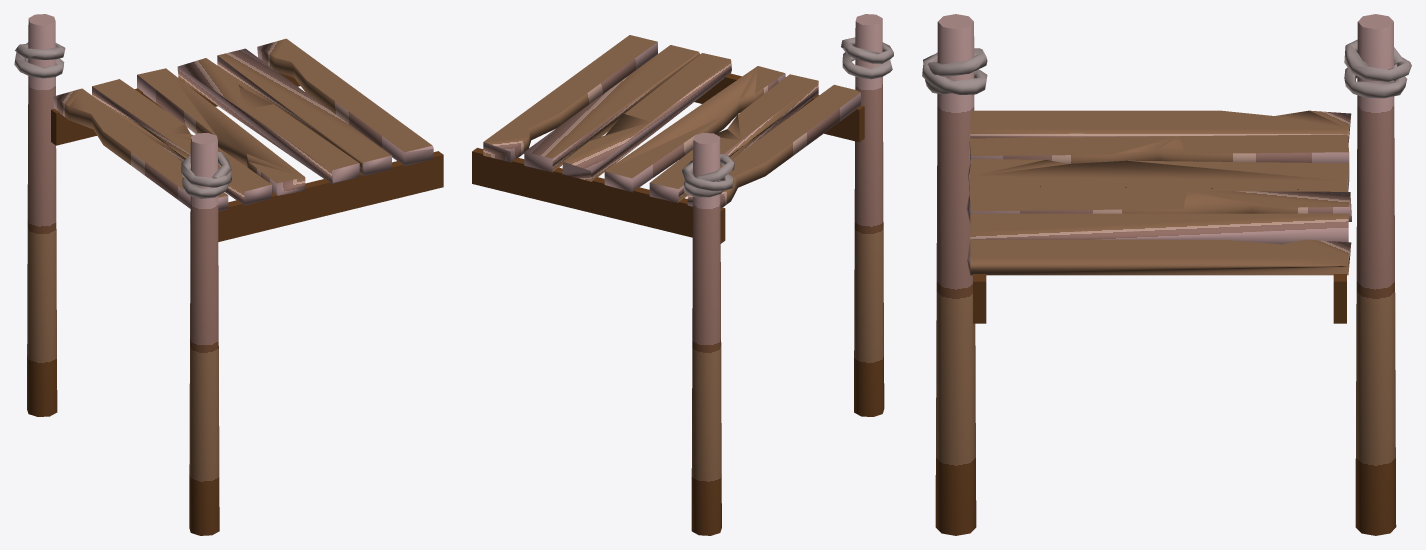
Rendered from Environment_Dock.gltf.
The picture shows the model from 3 angles, left to right: view 1: azimuth 30°, elevation 25°; view 2: azimuth 150°, elevation 25°; view 3: azimuth 270°, elevation 25°; orthographic projection. The views are drawn at different scales.
Visible parts, largest first — view 1: Environment_Dock; view 2: Environment_Dock; view 3: Environment_Dock.
Part boxes in pixels (x1,y1,x2,y2): Environment_Dock: [14, 14, 443, 535]; Environment_Dock: [472, 14, 893, 535]; Environment_Dock: [922, 14, 1411, 535].
Bounding box in the file's own units: 2.18 × 3.01 × 2.64.
Materials: 1 (1 with a texture image).
